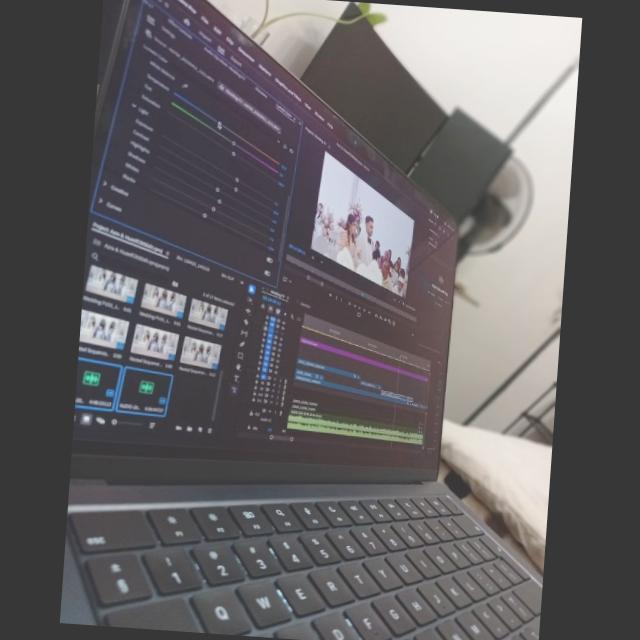laptop: (67, 62, 510, 640)
